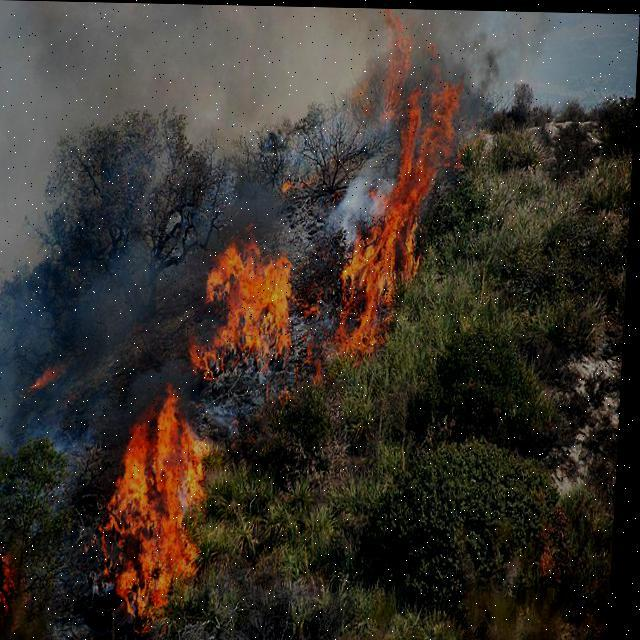Fire: (332, 19, 478, 379), (109, 384, 218, 618), (188, 236, 302, 382), (0, 550, 35, 620), (31, 353, 70, 398)
